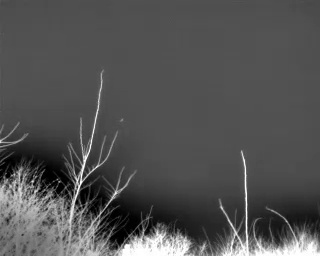BIRD: (118, 116, 126, 125)
